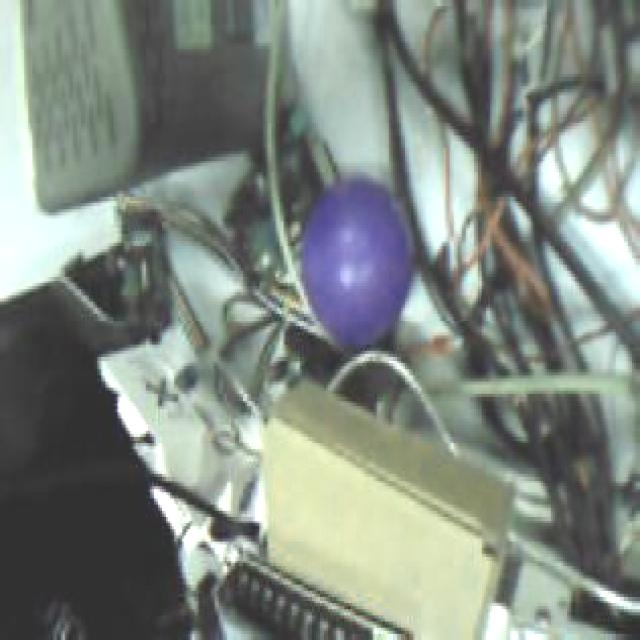BallPurple: (302, 176, 413, 346)
